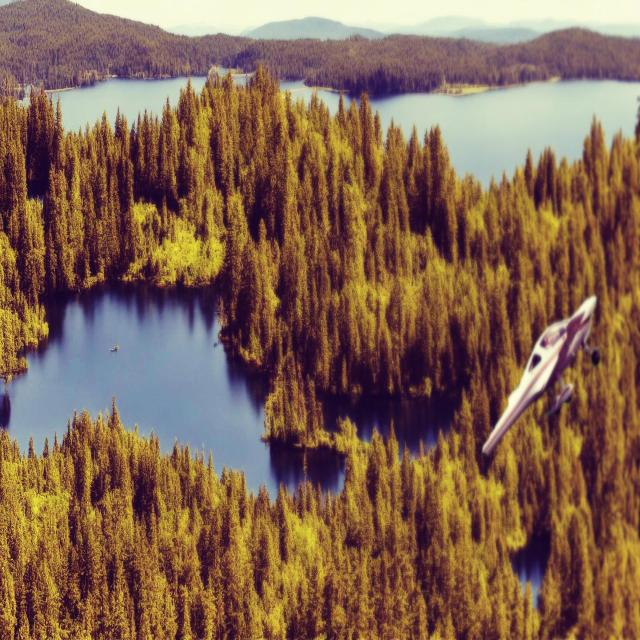airplane: (481, 294, 600, 458)
